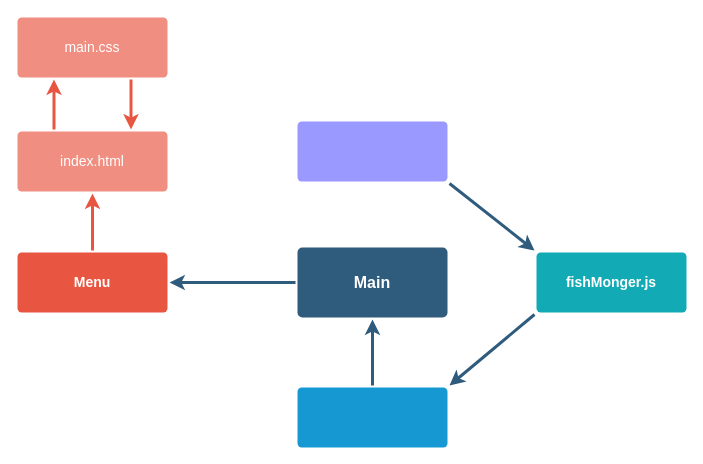
Some shapes in this 703 by 464 pixel diagram are drawn without their labels. The centre of each missing label's shape, as x and y in pixels:
fishingBoat.js: point 372,151
restaurant.js: point 372,417
